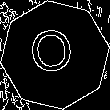O_S: (30, 27, 80, 83)
